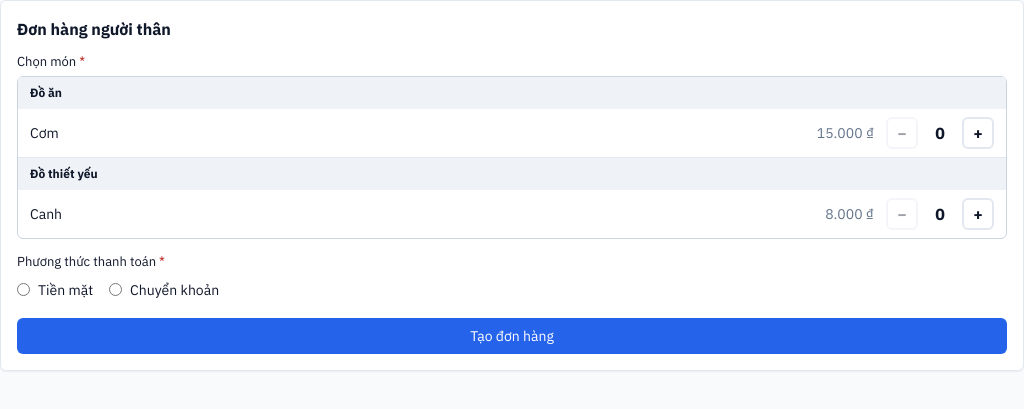
Test: RelativeOrderForm — validation › requires at least one ordered portion
This screenshot has width=1024, height=409.
Click the radio button labelled "Tiền mặt" at (24, 290), box 17,283 -> 30,296
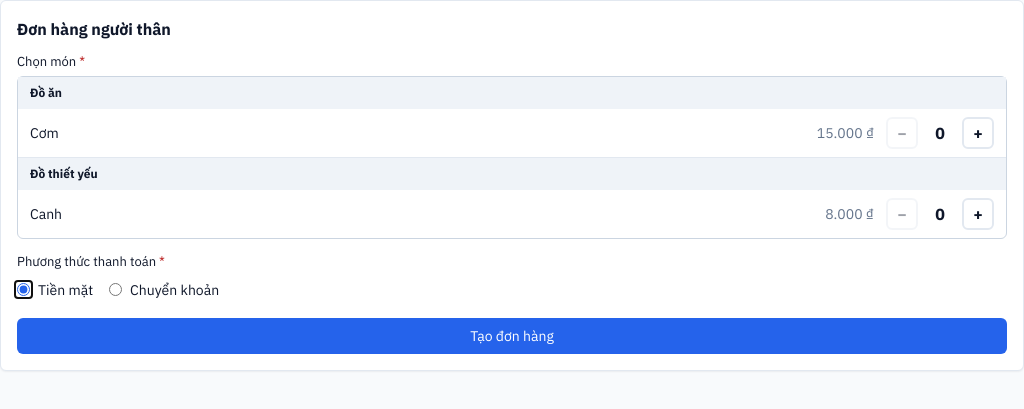
Click the button "Tạo đơn hàng" at (512, 336), box 17,318 -> 1007,354
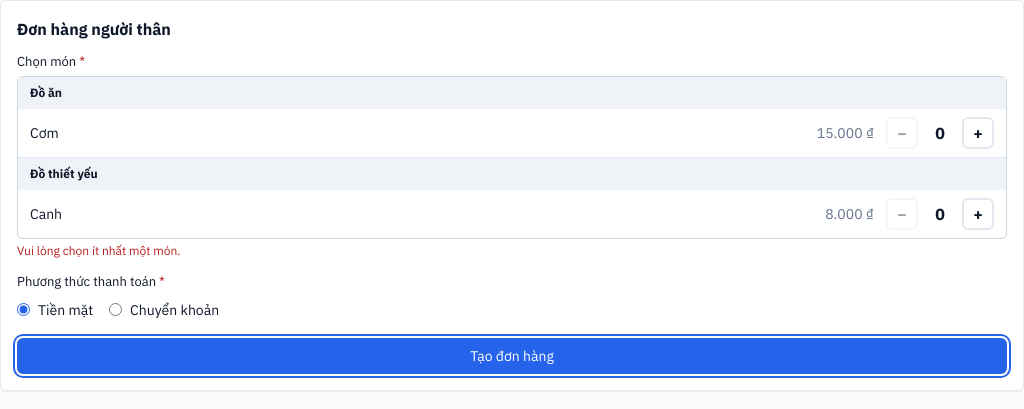
expect the text "Vui lòng chọn ít nhất một món." is shown: met, box 17,243 -> 181,258
